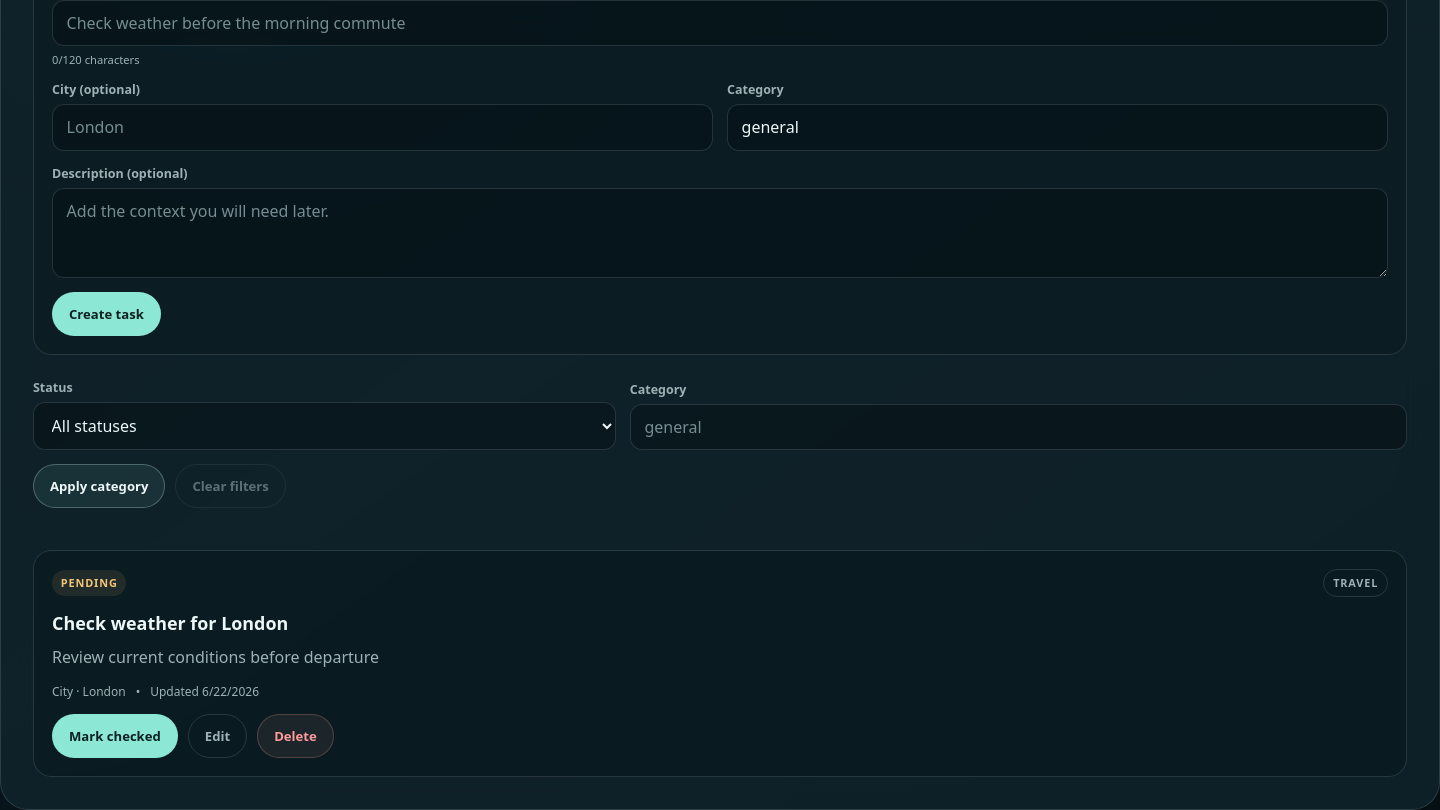
Test: task workspace › deletes a task through an accessible confirmation
(page scrolled)
Click the button "Delete". click: (295,736)
box: [257,714,334,758]
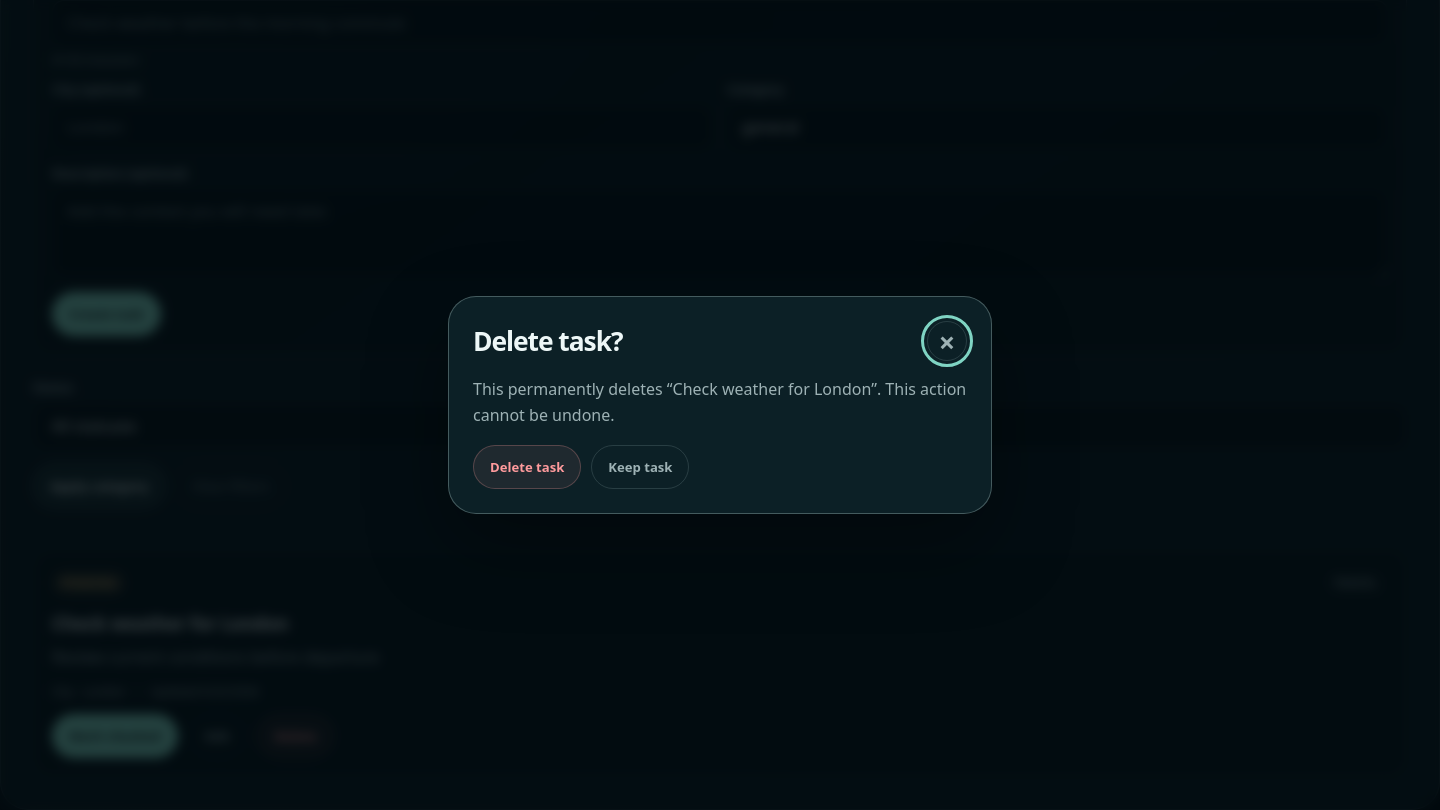
Expected: the text "permanently deletes" is shown, [473,378,673,400]
Click the button "Delete task". click: (527,467)
box: [473,445,581,489]
(page scrolled)
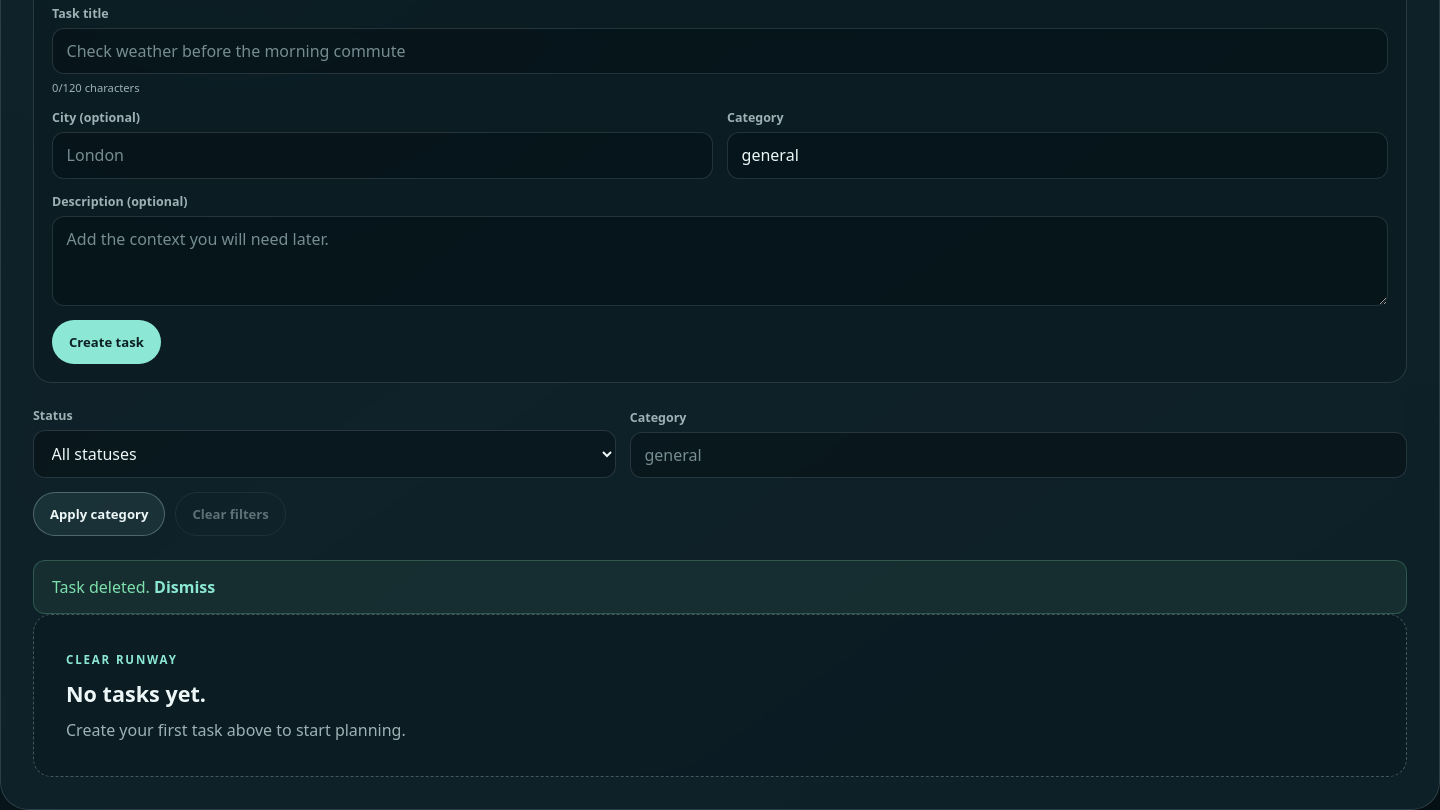
Expected: the text "Task deleted." is shown, [52,576,150,598]
Expected: the heading "No tasks yet." is shown, [66,679,206,708]
